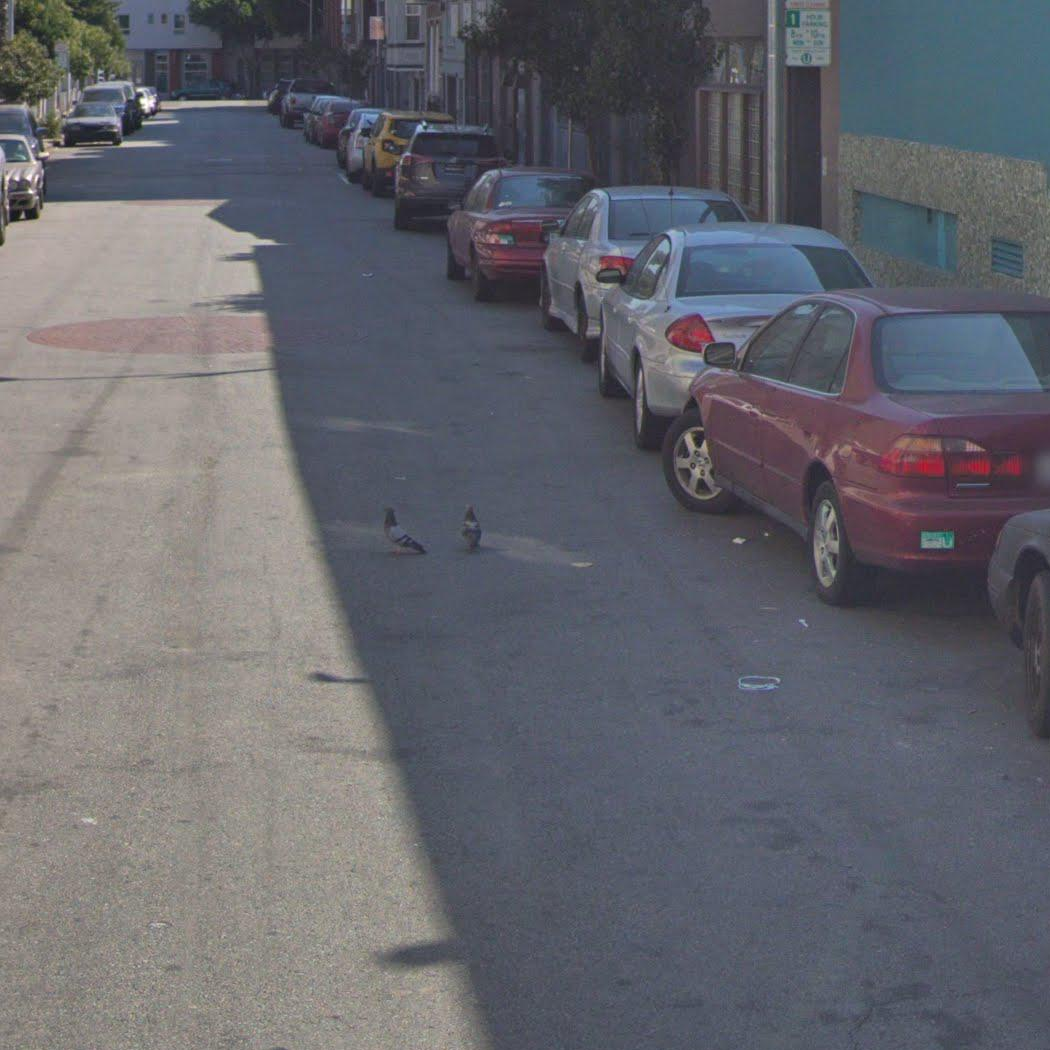1 Hour Parking: (784, 8, 833, 68)
